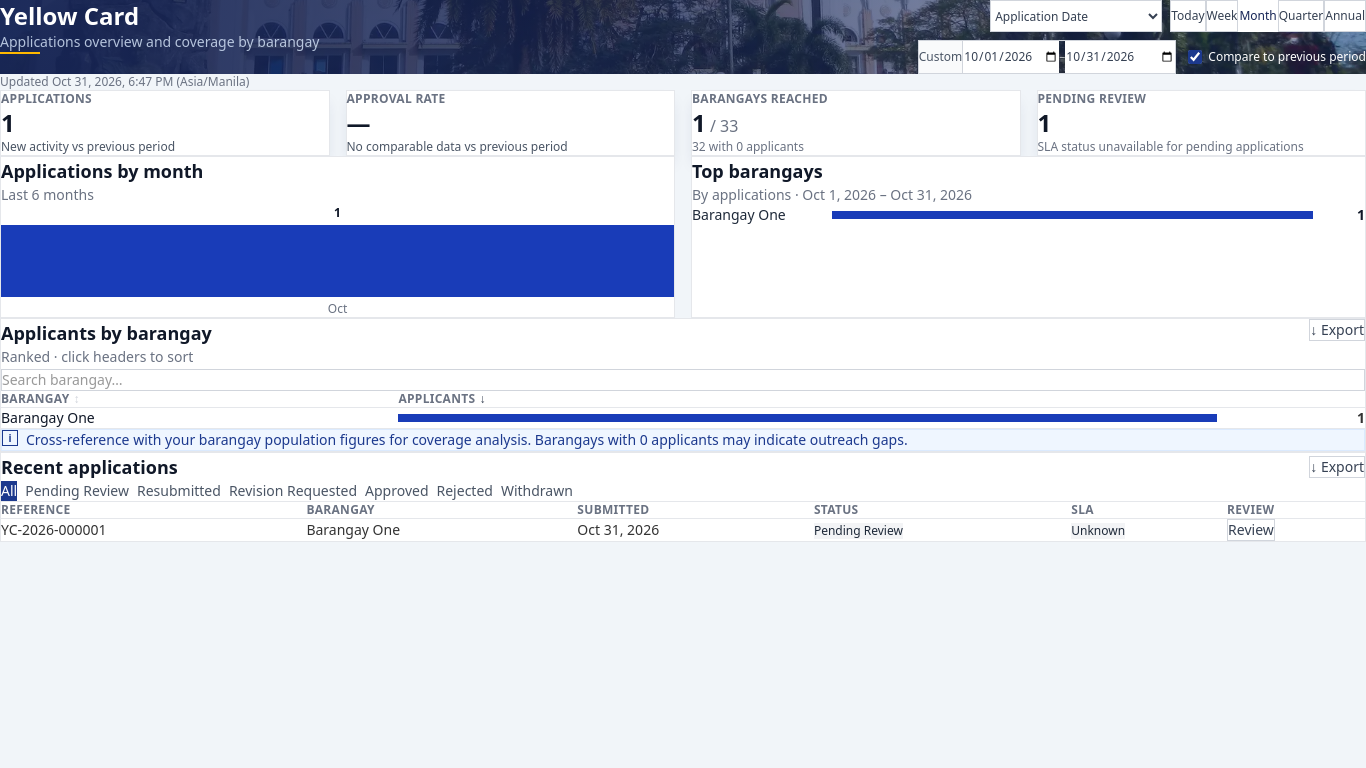
Test: YellowCardPage › clicking Review on a row opens the audited PII drill-down for that application's id
Expected: the text "YC-2026-000001" is shown, [1,518,306,541]
Click the button "Review".
click(1251, 530)  # box [1227,519,1275,541]
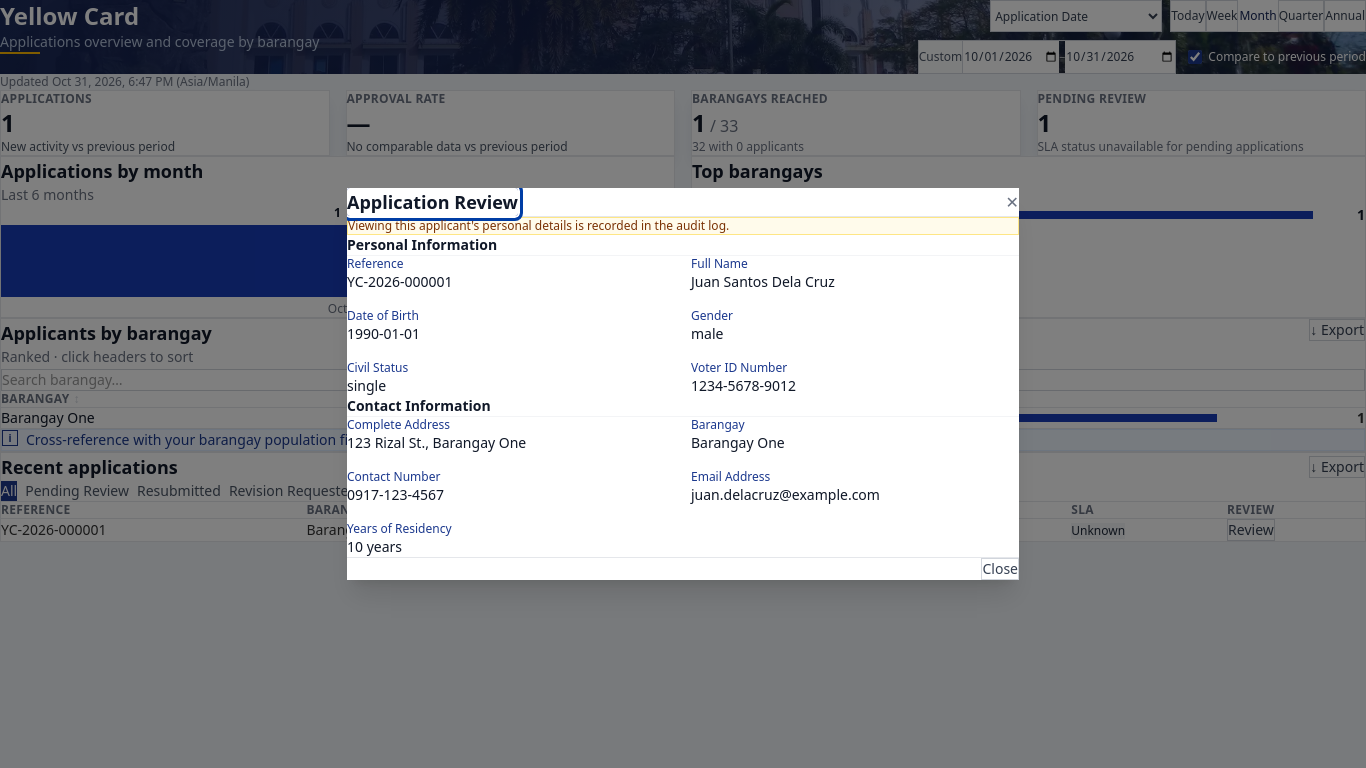
Expected: the text "juan.delacruz@example.com" is shown, [691,485,880,504]
